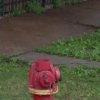Hydrant: (24, 55, 65, 100)
